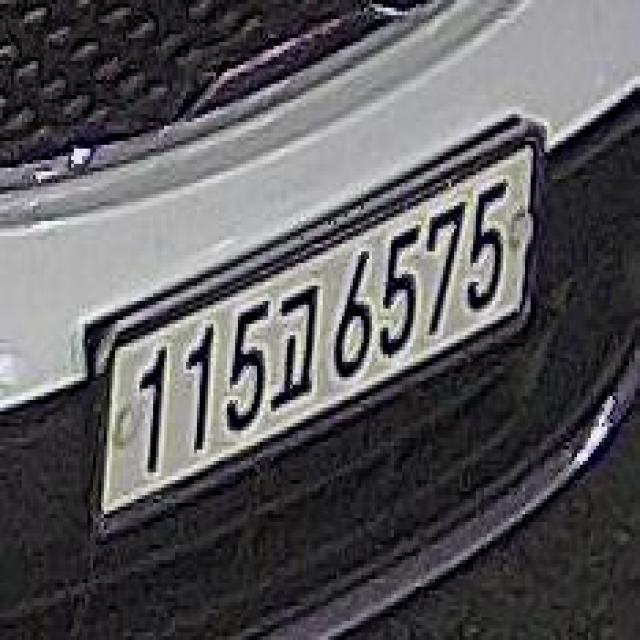illegal_plate: (93, 124, 539, 538)
